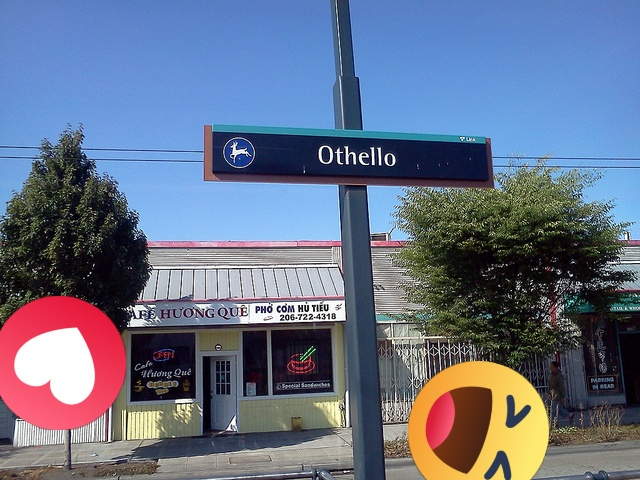haha: (408, 361, 549, 480)
love: (0, 296, 126, 430)
